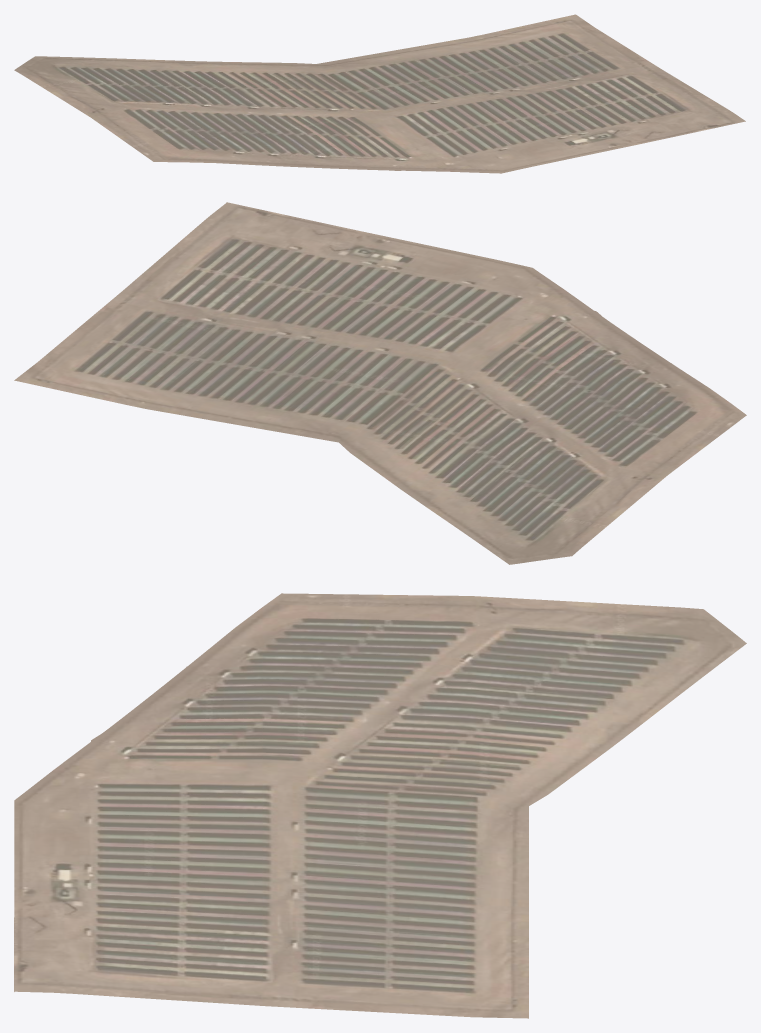
Rendered from lalcktur_base.obj.
3 views of the same model, one above another, from view 1: azimuth 30°, elevation 25°; view 2: azimuth 150°, elevation 25°; view 3: azimuth 270°, elevation 25° (orthographic). The views are drawn at different scales.
Parts seen in each view (by area): view 1: EXPORT_GOOGLE_SAT_WM; view 2: EXPORT_GOOGLE_SAT_WM; view 3: EXPORT_GOOGLE_SAT_WM.
Part boxes in pixels (x1,y1,x2,y2): EXPORT_GOOGLE_SAT_WM: (14, 14, 745, 173); EXPORT_GOOGLE_SAT_WM: (14, 202, 746, 564); EXPORT_GOOGLE_SAT_WM: (14, 593, 746, 1018).
Bounding box in the file's own units: 276 × 18.46 × 230.
Materials: 1 (1 with a texture image).
